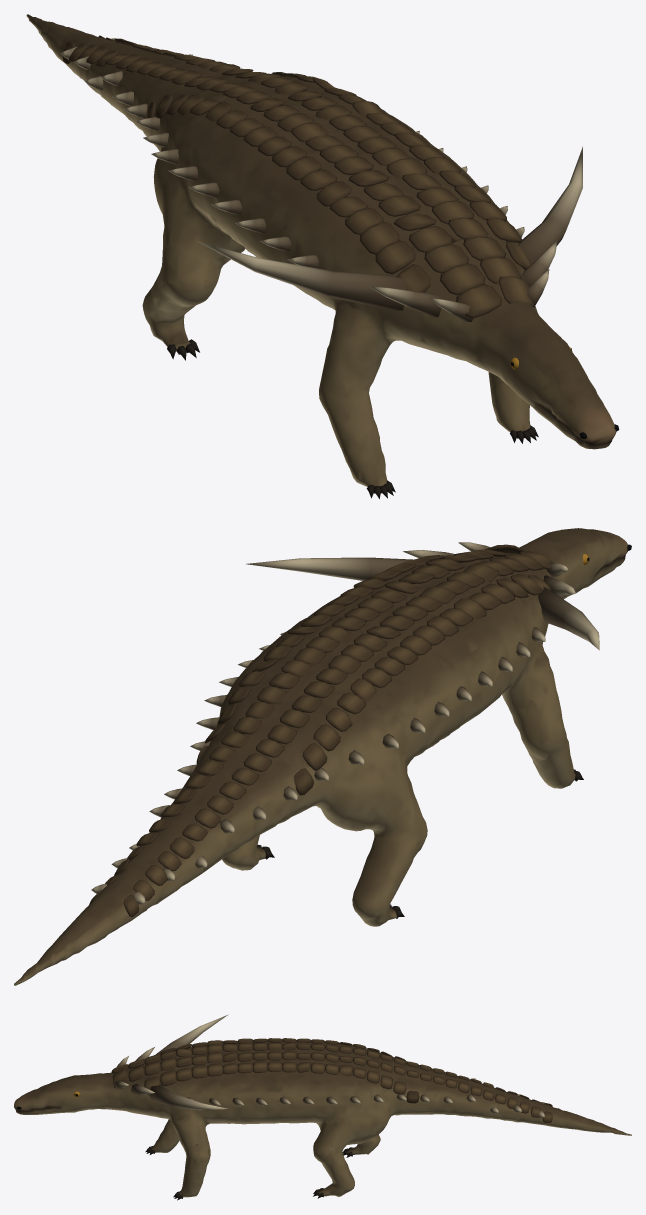
The model's file is Desmatosuchus.fbx.
The picture shows the model from 3 angles, top to bottom: view 1: azimuth 30°, elevation 25°; view 2: azimuth 150°, elevation 25°; view 3: azimuth 270°, elevation 25°; orthographic projection. The views are drawn at different scales.
Visible parts, largest first — view 1: Desmatosuchus; view 2: Desmatosuchus; view 3: Desmatosuchus.
Boxes of the visible parts, x1=… form: Desmatosuchus: x1=26, y1=14, x2=619, y2=498; Desmatosuchus: x1=14, y1=528, x2=631, y2=985; Desmatosuchus: x1=14, y1=1014, x2=631, y2=1200.
Size of the model in its own units: 0.7163 by 0.4522 by 1.98.
